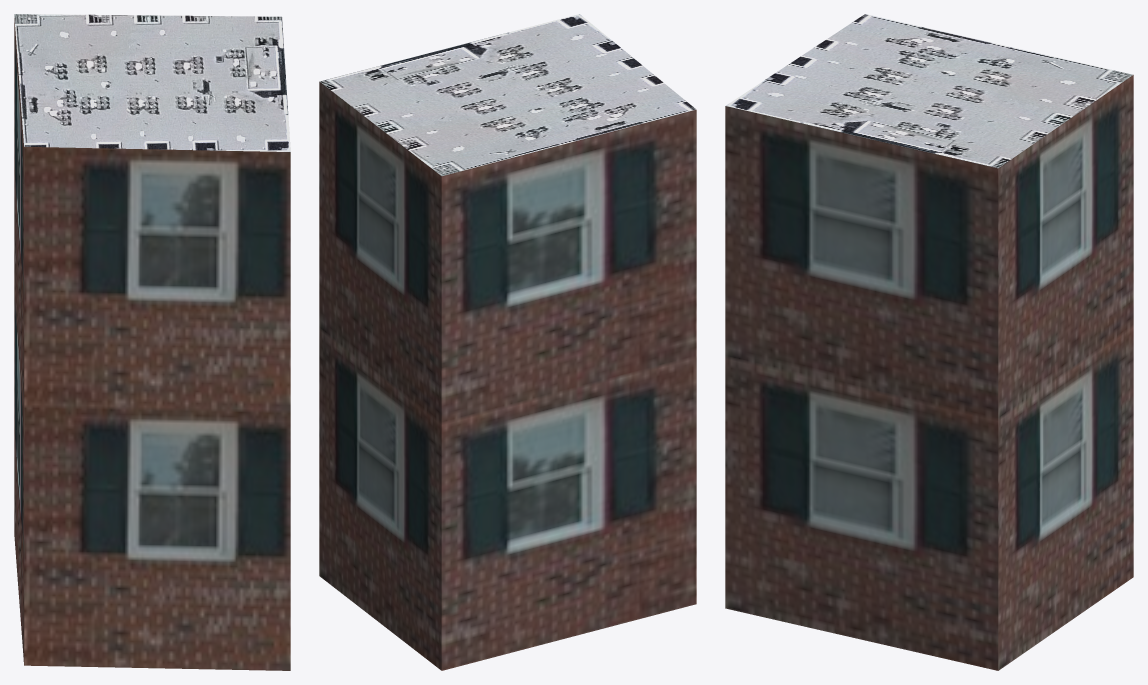
The model's file is ResTex__661.fbx.
The picture shows the model from 3 angles, left to right: view 1: azimuth 30°, elevation 25°; view 2: azimuth 150°, elevation 25°; view 3: azimuth 270°, elevation 25°; orthographic projection. The views are drawn at different scales.
Parts seen in each view (by area): view 1: CityEngineMaterial_14_m, CityEngineMaterial_m; view 2: CityEngineMaterial_14_m, CityEngineMaterial_m; view 3: CityEngineMaterial_14_m, CityEngineMaterial_m.
Part boxes in pixels (x1,y1,x2,y2): CityEngineMaterial_14_m: [14, 18, 290, 670]; CityEngineMaterial_m: [14, 14, 290, 151]; CityEngineMaterial_14_m: [319, 81, 696, 670]; CityEngineMaterial_m: [320, 14, 695, 175]; CityEngineMaterial_14_m: [725, 75, 1133, 670]; CityEngineMaterial_m: [726, 14, 1132, 168].
Size of the model in its own units: 3.95 by 6 by 4.42.
2 materials, 2 textured.
